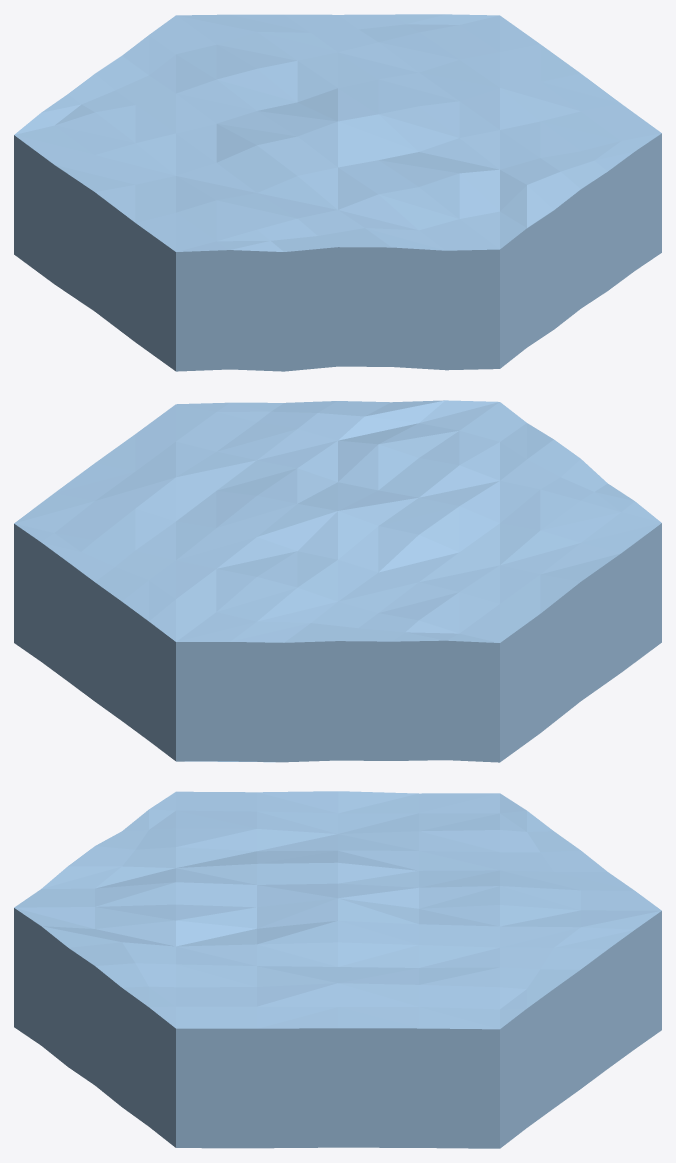
Rendered from Buzul1.fbx.
3 views of the same model, one above another, from view 1: azimuth 30°, elevation 25°; view 2: azimuth 150°, elevation 25°; view 3: azimuth 270°, elevation 25° (orthographic).
Visible parts, largest first — view 1: Circle; view 2: Circle; view 3: Circle.
Boxes of the visible parts, x1,y1,x2,y2 form: Circle: (14,14,661,371); Circle: (14,400,661,762); Circle: (14,791,661,1148).
Bounding box in the file's own units: 173 × 45.39 × 200.
